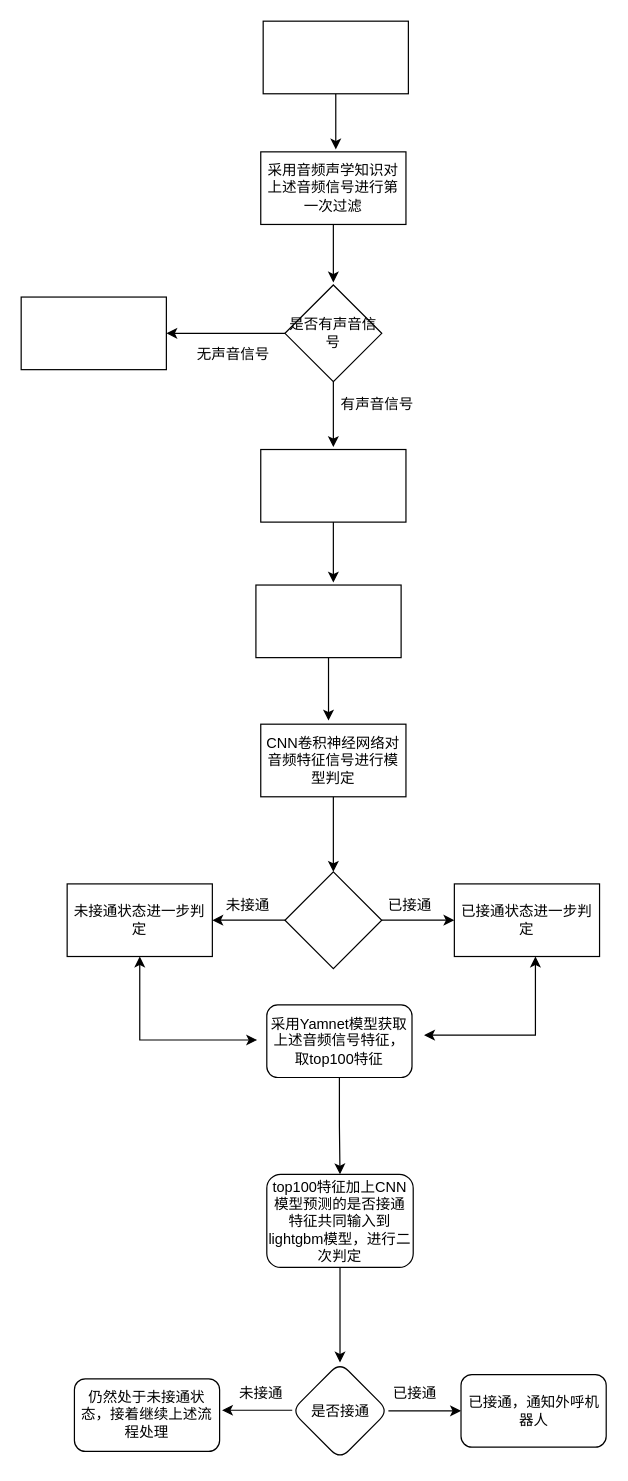
Some shapes in this 628 by 1481 pixel diagram are drawn without their labels. The shapes that lost their labels are listed below. From the top down, each one's centre as x and y in pixels, then its label:
At point 335,57: "实时音频信号数据".
At point 93,333: "仍然处于未接通状态，重新获取音频信号数据，接着判定".
At point 333,485: "对声音信号进行如下判定".
At point 328,621: "采用wav2vec预训练模型获取上述音频特征信号".
At point 333,920: "是否接通第一次判定".
